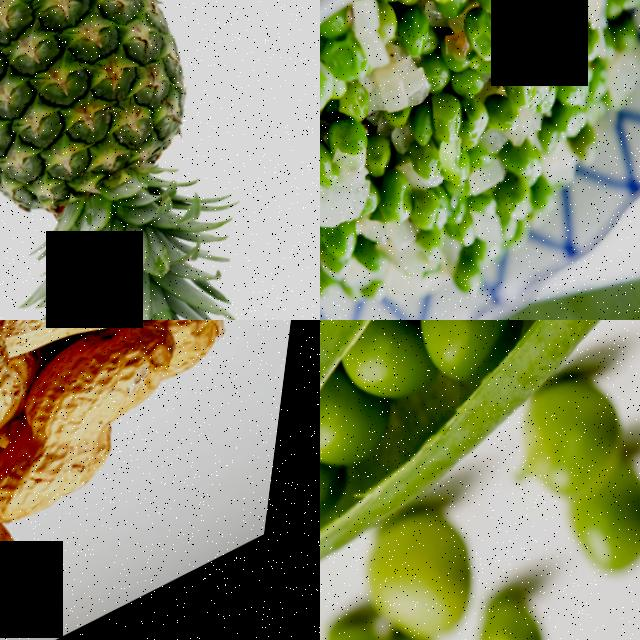peanuts: (20, 320, 210, 463), (0, 320, 207, 373)
peas: (320, 320, 640, 547), (373, 0, 528, 183), (320, 94, 386, 209), (387, 0, 539, 38)
pineapple: (0, 0, 291, 320)
